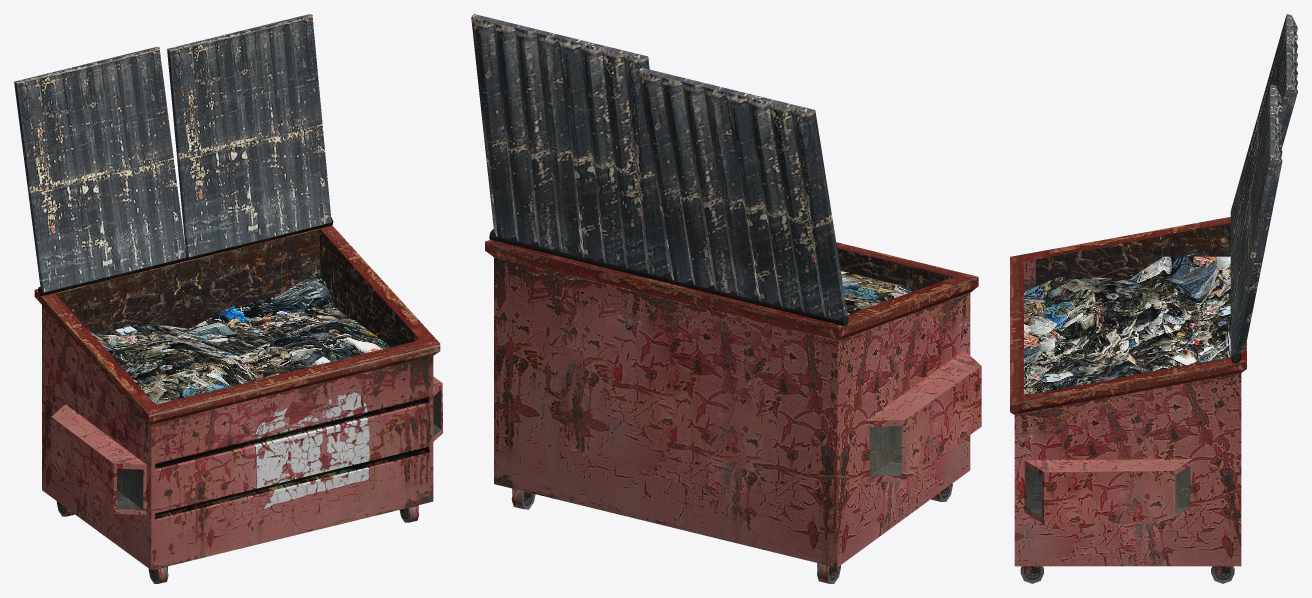
File: dumpster_open_full.fbx
The picture shows the model from 3 angles, left to right: view 1: azimuth 30°, elevation 25°; view 2: azimuth 150°, elevation 25°; view 3: azimuth 270°, elevation 25°; orthographic projection. The views are drawn at different scales.
Visible parts, largest first — view 1: bin_base, leftlid, rightlid, garbage1; view 2: bin_base, rightlid, leftlid, garbage1; view 3: bin_base, garbage1, rightlid, leftlid.
Boxes of the visible parts, x1,y1,x2,y2 form: bin_base: (34,225,442,583); leftlid: (14,47,187,295); rightlid: (167,14,333,260); garbage1: (90,269,389,404); bin_base: (485,240,981,583); rightlid: (471,14,669,282); leftlid: (638,67,848,326); garbage1: (841,271,911,314); bin_base: (1010,217,1246,583); garbage1: (1024,256,1230,395); rightlid: (1230,84,1282,362); leftlid: (1230,14,1297,283).
Size of the model in its own units: 267 by 324 by 195.
